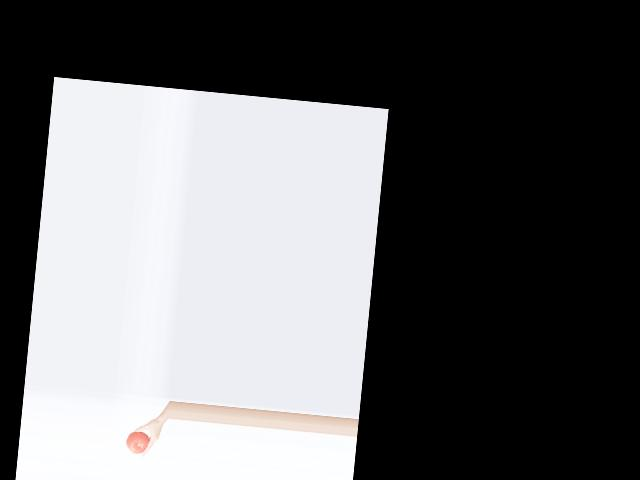tomato: (125, 430, 149, 455)
